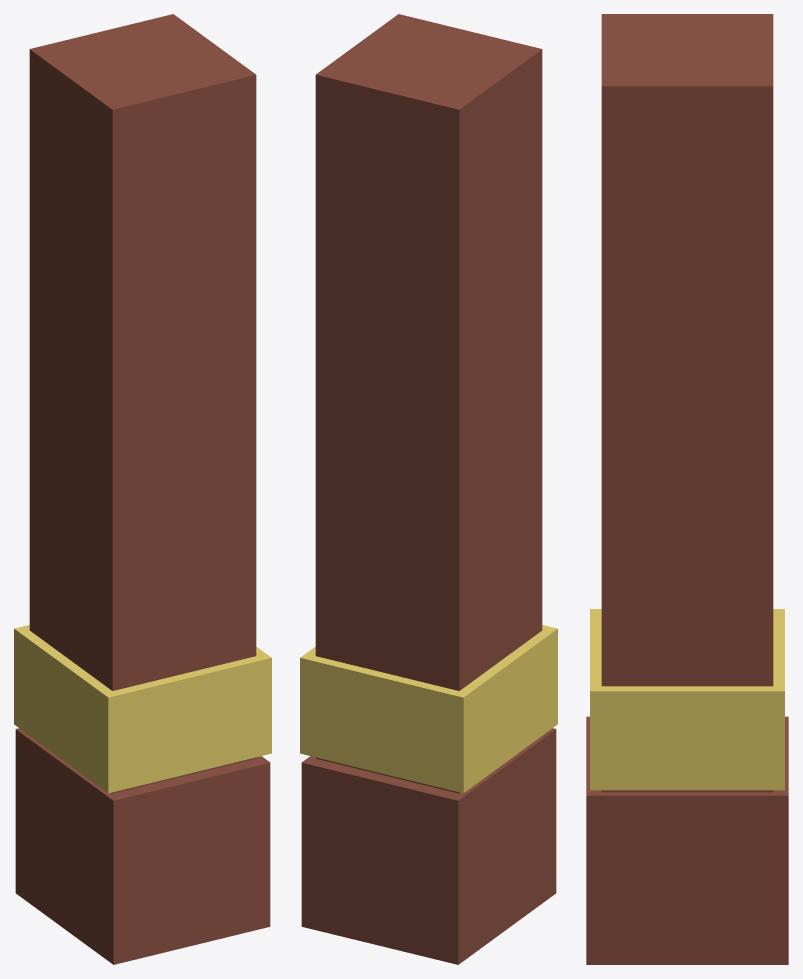
The model's file is arm.glb.
3 renders of one model, left to right at view 1: azimuth 30°, elevation 25°; view 2: azimuth 150°, elevation 25°; view 3: azimuth 270°, elevation 25°, orthographic. The views are drawn at different scales.
Visible parts, largest first — view 1: Arm; view 2: Arm; view 3: Arm.
Part boxes in pixels (x1,y1,x2,y2): Arm: (14,14,271,964); Arm: (300,14,557,964); Arm: (586,14,788,964).
Size of the model in its own units: 0.125 by 0.62 by 0.13.
